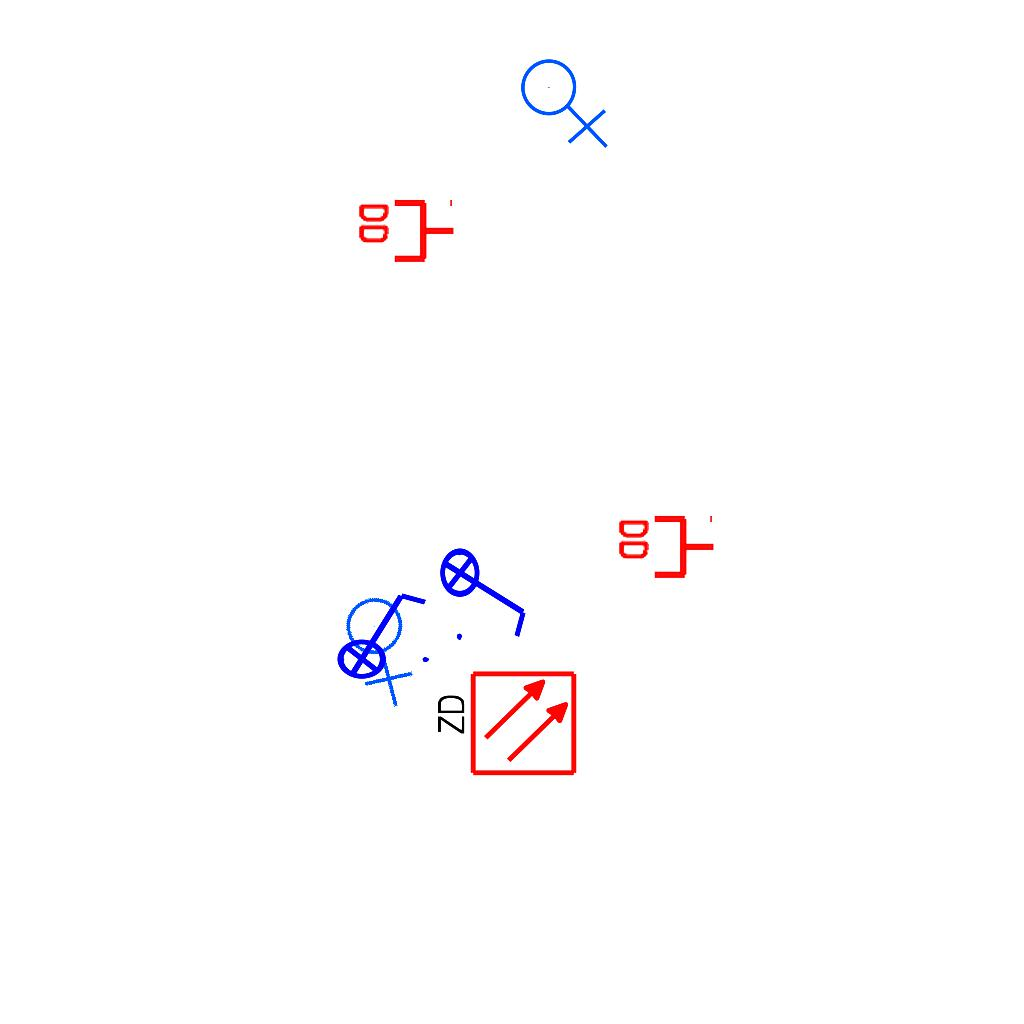Ausschalter_beleuchtet: (438, 534, 534, 646), (323, 585, 435, 681)
Datenanschluss_zweifach: (354, 198, 457, 267), (614, 514, 717, 583)
Elektroanschluss_allgemein_230V_Geraeteanschlussdose_230V: (318, 578, 449, 712), (519, 50, 613, 149)
ZD_Melder_in_Zwischendecke_mit_Revisionsoeffnung_mind_40_x_40_cm: (430, 668, 579, 782)
